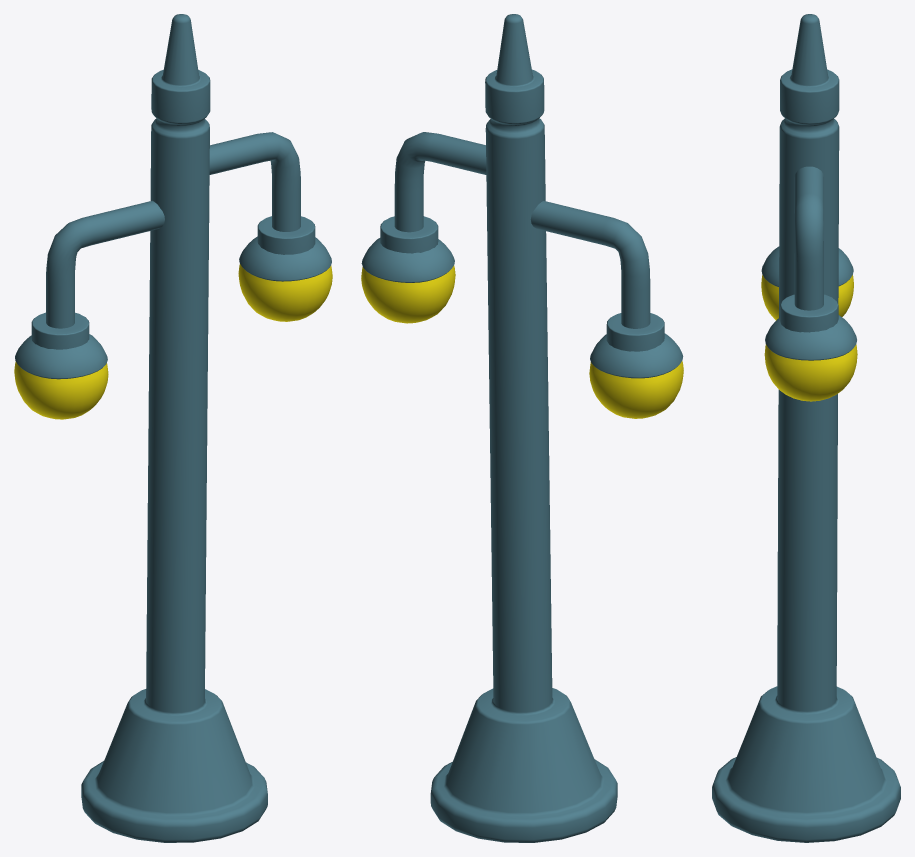
File: City_5_Street_Lamp_1.glb
The picture shows the model from 3 angles, left to right: view 1: azimuth 30°, elevation 25°; view 2: azimuth 150°, elevation 25°; view 3: azimuth 270°, elevation 25°; orthographic projection.
Parts seen in each view (by area): view 1: City_5_Street_Lamp_1; view 2: City_5_Street_Lamp_1; view 3: City_5_Street_Lamp_1.
Boxes of the visible parts, x1=… form: City_5_Street_Lamp_1: x1=14, y1=14, x2=332, y2=842; City_5_Street_Lamp_1: x1=361, y1=14, x2=683, y2=842; City_5_Street_Lamp_1: x1=712, y1=14, x2=900, y2=842.
Size of the model in its own units: 1.61 by 3.96 by 0.8534.
Materials: 1 (1 with a texture image).
